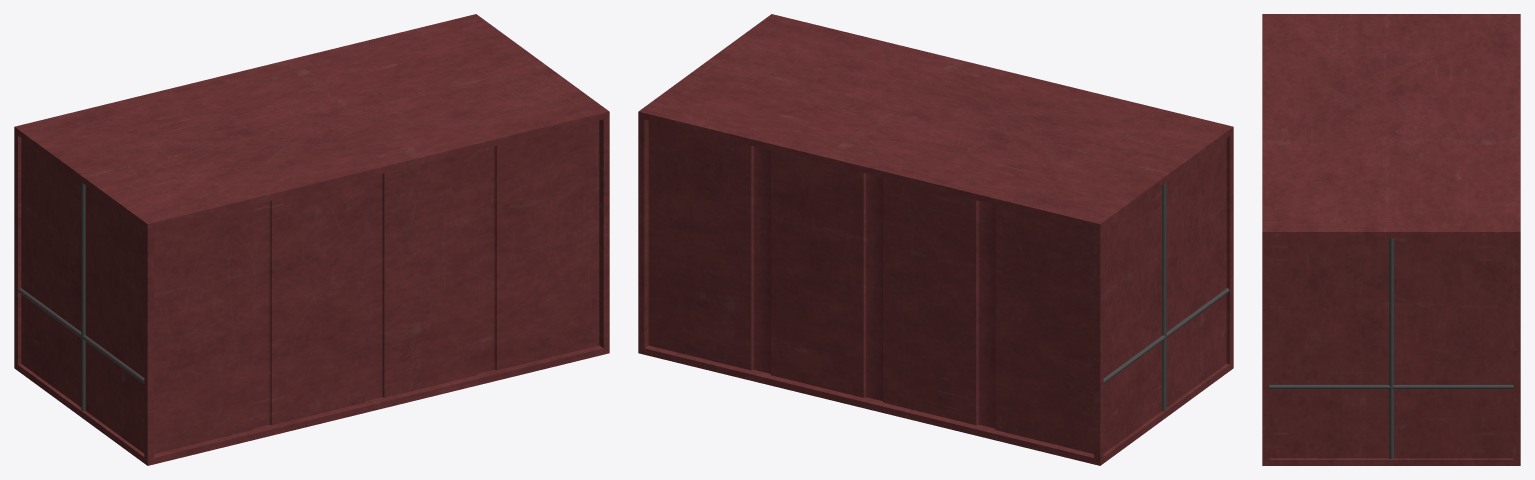
Rendered from container.fbx.
The picture shows the model from 3 angles, left to right: view 1: azimuth 30°, elevation 25°; view 2: azimuth 150°, elevation 25°; view 3: azimuth 270°, elevation 25°; orthographic projection. The views are drawn at different scales.
Visible parts, largest first — view 1: bake; view 2: bake; view 3: bake.
Part boxes in pixels (box(x1,y1,x2,y2)): bake: box(14, 14, 609, 465); bake: box(638, 14, 1233, 465); bake: box(1262, 14, 1520, 465).
Bounding box in the file's own units: 344 × 172 × 172.
1 material, 1 textured.
